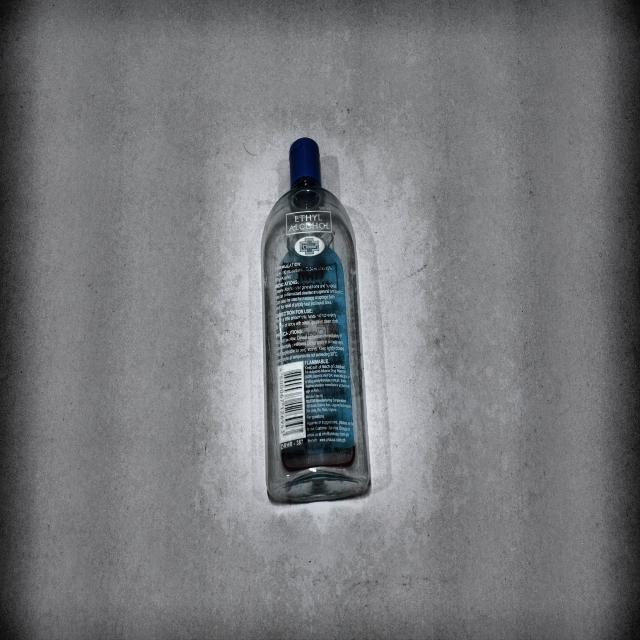Bottles: (255, 126, 378, 513)
